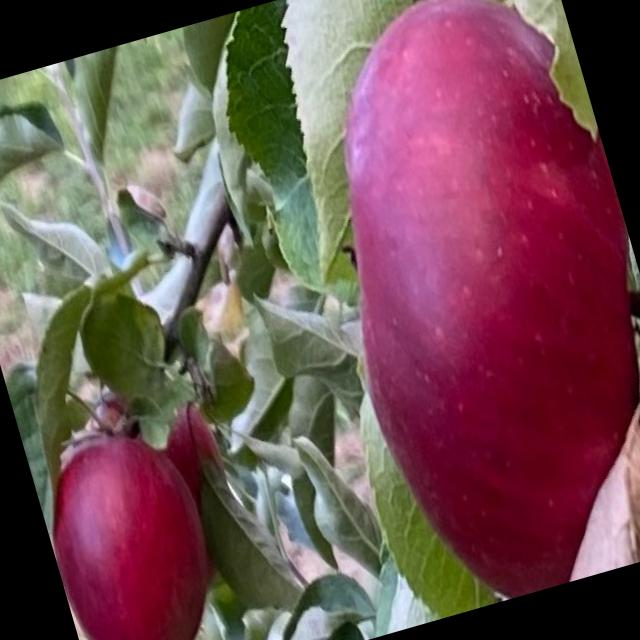Apples: (270, 0, 639, 621), (29, 421, 237, 639), (89, 369, 230, 522)
